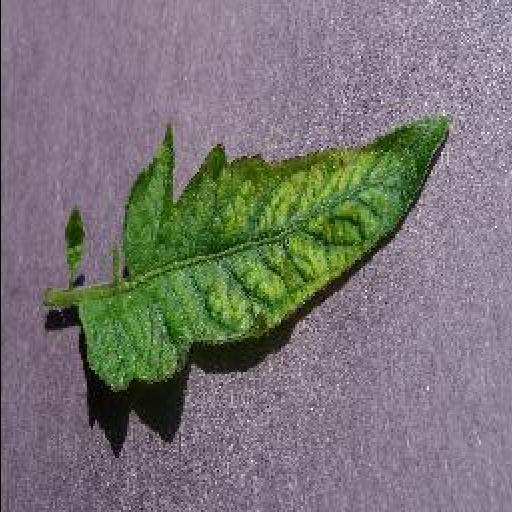disease_tomato: (76, 114, 454, 396)
